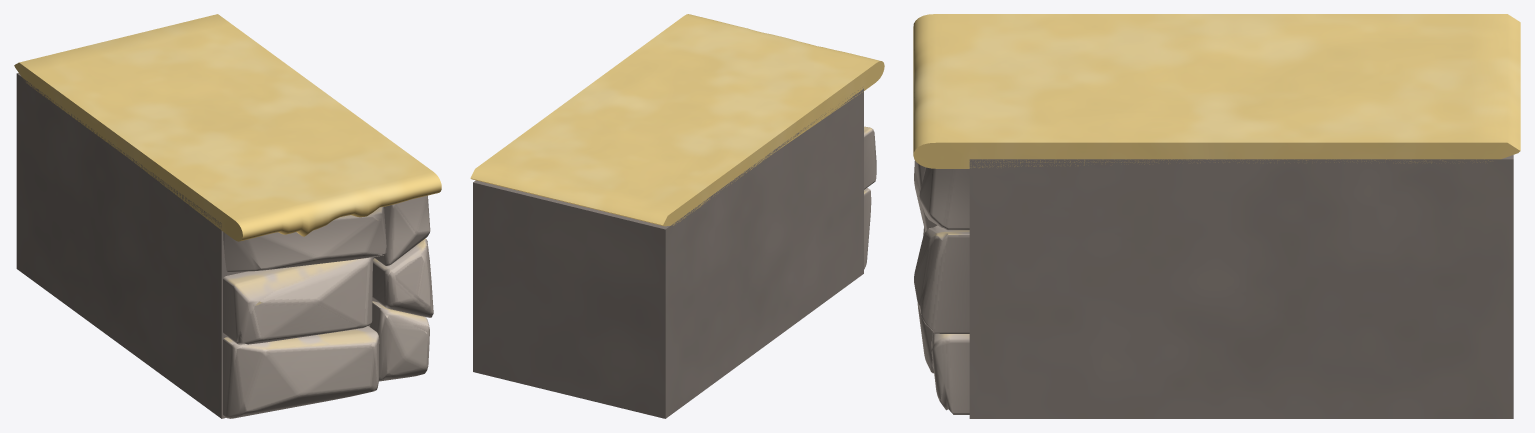
Rendered from CC_T01_SandCliffCore.fbx.
3 renders of one model, left to right at view 1: azimuth 30°, elevation 25°; view 2: azimuth 150°, elevation 25°; view 3: azimuth 270°, elevation 25°, orthographic. The views are drawn at different scales.
Parts seen in each view (by area): view 1: Rock, SandCap; view 2: Rock, SandCap; view 3: Rock, SandCap.
Boxes of the visible parts, bbox=[...] form: Rock: bbox=[16, 73, 433, 418]; SandCap: bbox=[14, 14, 441, 241]; Rock: bbox=[473, 87, 876, 418]; SandCap: bbox=[470, 14, 884, 226]; Rock: bbox=[914, 155, 1513, 418]; SandCap: bbox=[913, 14, 1520, 168].
Bounding box in the file's own units: 2 × 2.01 × 3.99.
